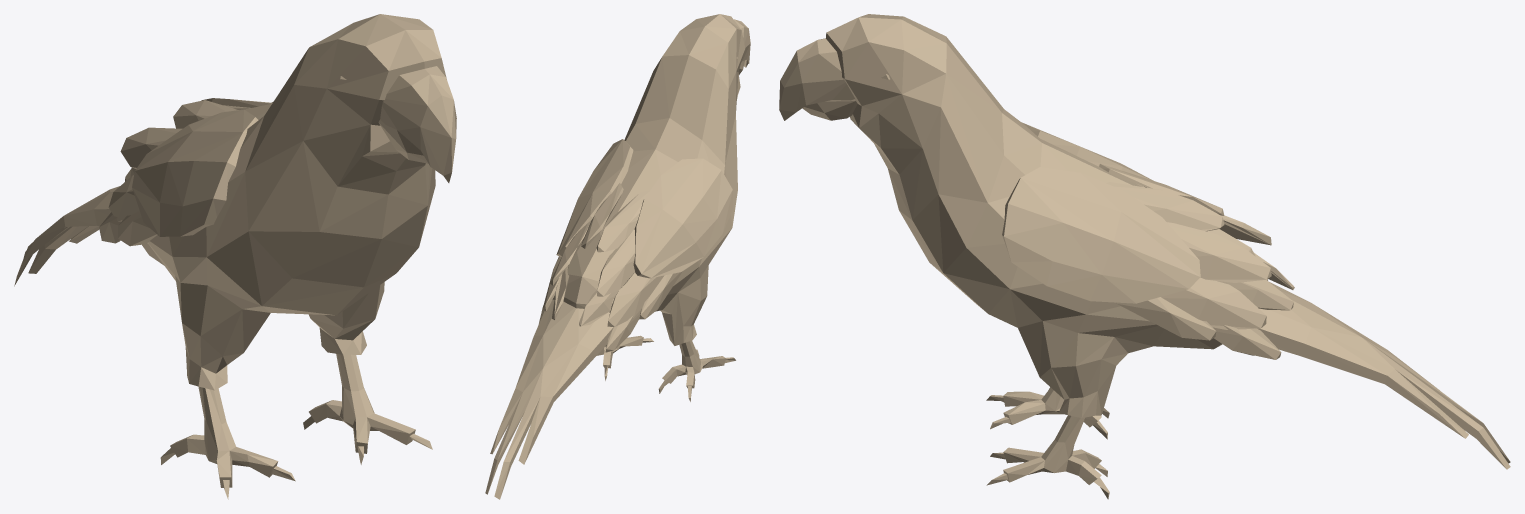
File: yingzhao.glb
The picture shows the model from 3 angles, left to right: view 1: azimuth 30°, elevation 25°; view 2: azimuth 150°, elevation 25°; view 3: azimuth 270°, elevation 25°; orthographic projection. The views are drawn at different scales.
Parts seen in each view (by area): view 1: Node; view 2: Node; view 3: Node.
Boxes of the visible parts, bbox=[...] form: Node: bbox=[14, 14, 456, 499]; Node: bbox=[485, 14, 750, 499]; Node: bbox=[779, 14, 1510, 499].
Size of the model in its own units: 3.41 by 7.55 by 11.05.
